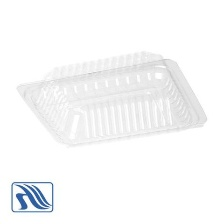plastic_box: (8, 43, 214, 155)
